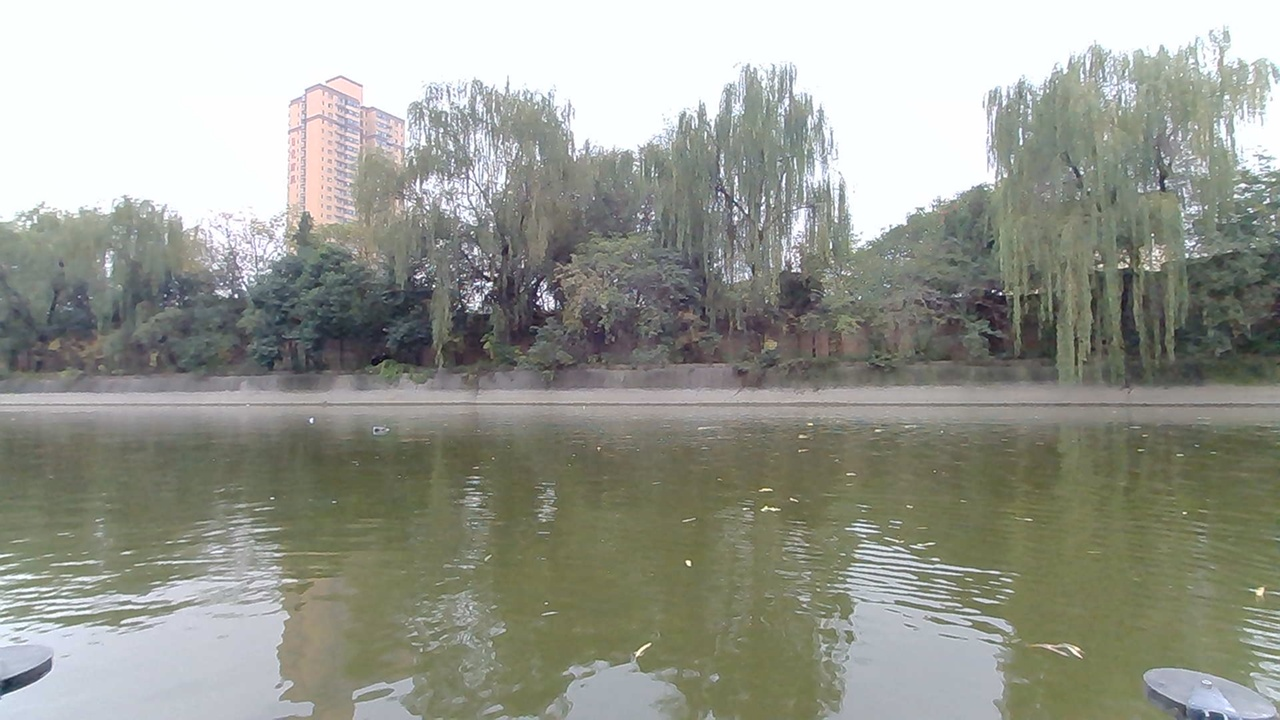bottle: (363, 416, 400, 440)
